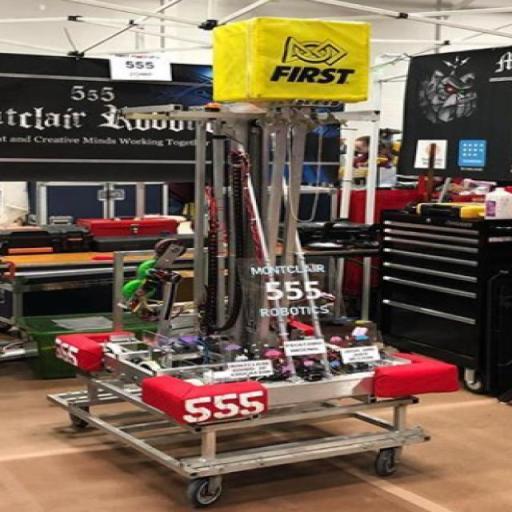robot: (52, 100, 465, 429)
